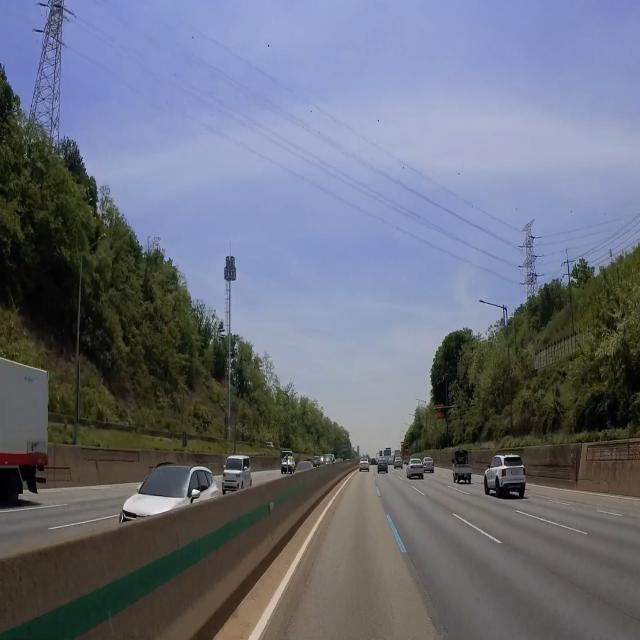car: (510, 466, 523, 481), (225, 480, 235, 489), (462, 472, 470, 481), (380, 461, 386, 468), (413, 466, 419, 472), (426, 463, 432, 468), (362, 465, 367, 470)
